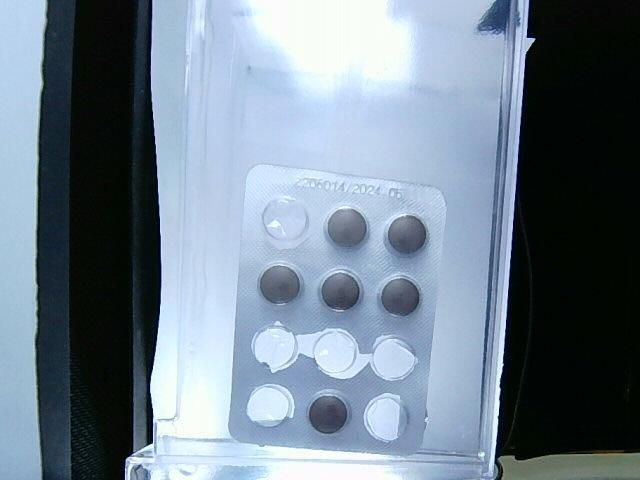Light Front: (227, 164, 448, 459)
No Pill Front: (263, 196, 309, 248), (251, 323, 297, 373), (364, 393, 407, 443), (246, 384, 294, 427), (314, 329, 359, 374), (371, 336, 417, 380)
Pill Front: (326, 206, 367, 247), (320, 270, 361, 311), (259, 264, 300, 304), (380, 276, 420, 316), (388, 214, 426, 254), (309, 395, 347, 433)
